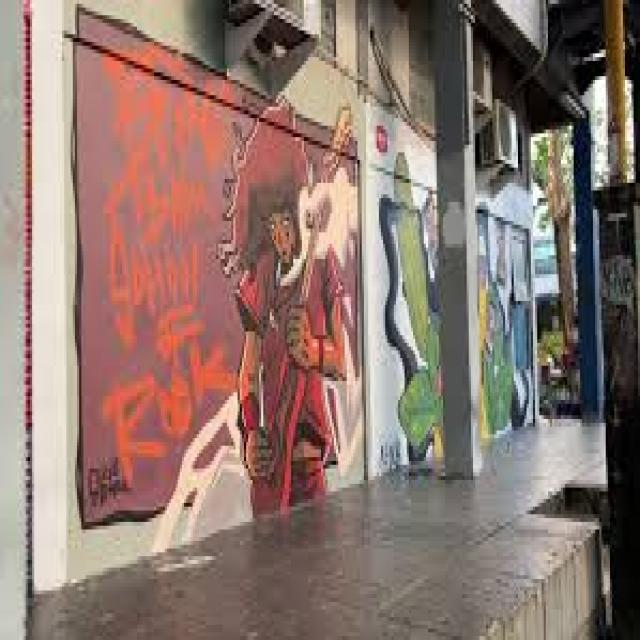-: (75, 11, 355, 518), (376, 128, 531, 462)
